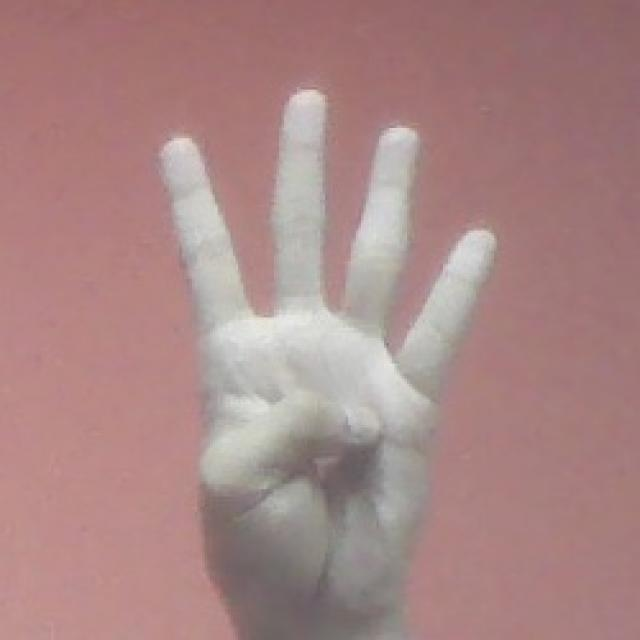Numeric-4: (151, 82, 505, 618)
